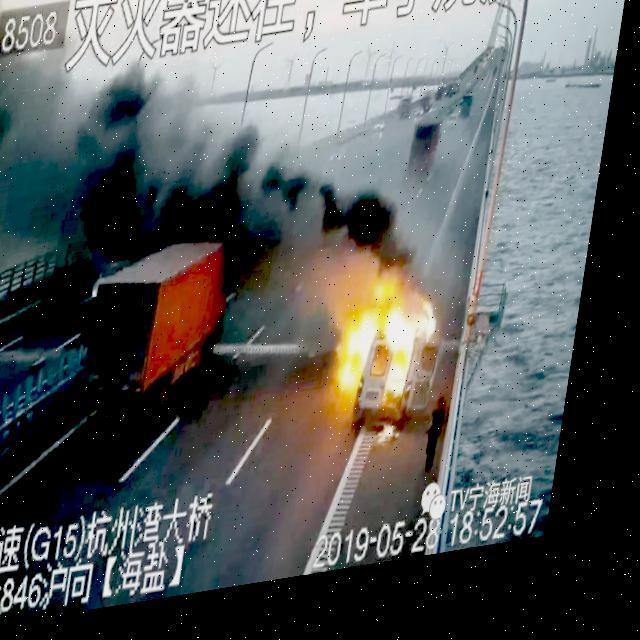Fire: (341, 262, 460, 442)
